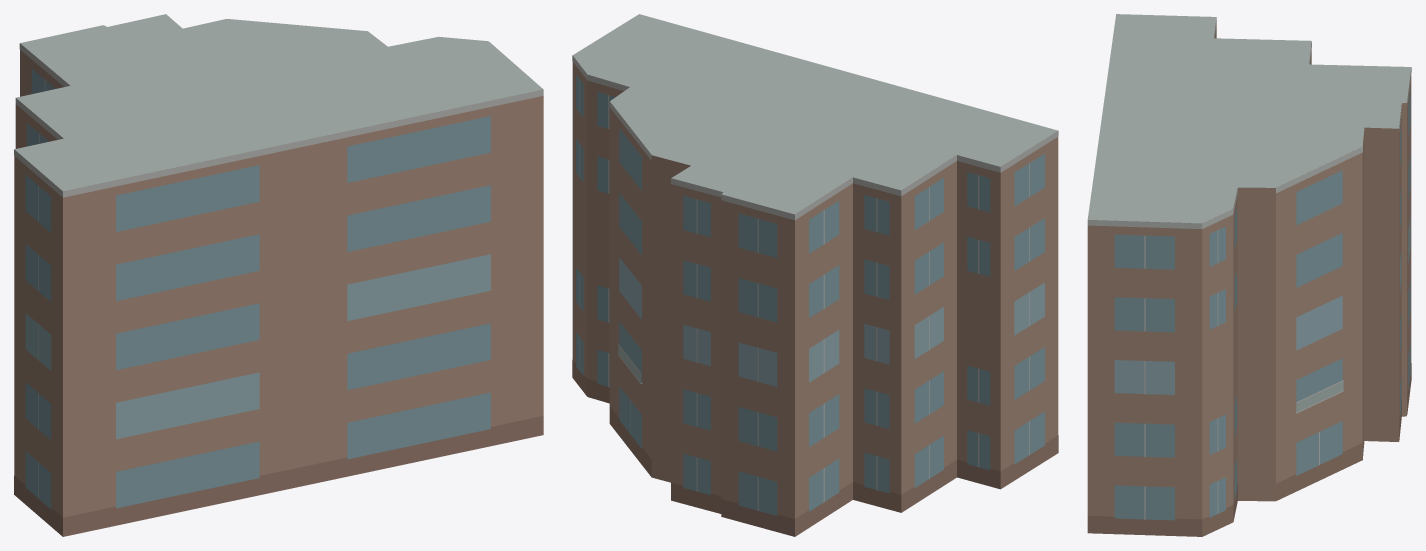
File: survey-upis-33003897.glb
3 views of the same model, side by side, from view 1: azimuth 30°, elevation 25°; view 2: azimuth 150°, elevation 25°; view 3: azimuth 270°, elevation 25° (orthographic). The views are drawn at different scales.
Visible parts, largest first — view 1: survey-upis-33003897.tmp; view 2: survey-upis-33003897.tmp; view 3: survey-upis-33003897.tmp.
Boxes of the visible parts, box(x1,y1,x2,y2) form: survey-upis-33003897.tmp: box(14, 14, 543, 536); survey-upis-33003897.tmp: box(572, 14, 1058, 536); survey-upis-33003897.tmp: box(1087, 14, 1411, 536).
Bounding box in the file's own units: 19.22 × 13.4 × 12.56.
